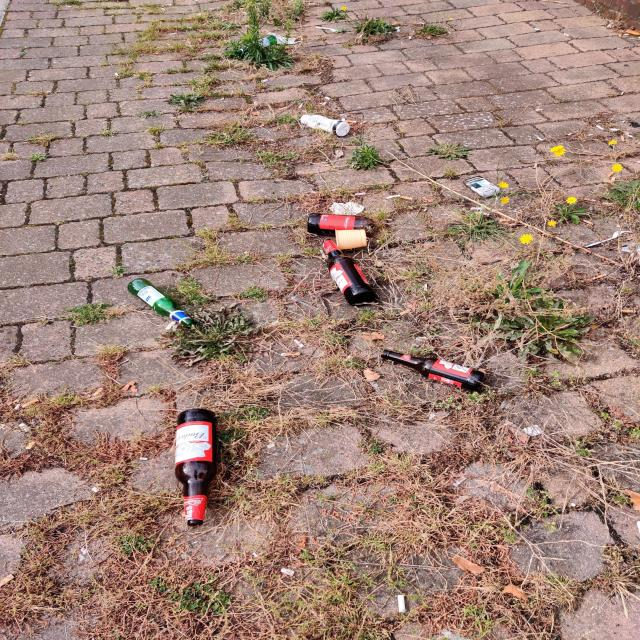litter: (175, 410, 217, 527), (381, 350, 484, 389), (323, 239, 376, 306), (128, 278, 196, 328), (307, 213, 376, 236), (300, 114, 350, 137), (236, 36, 276, 56), (463, 176, 500, 197), (335, 229, 365, 249), (329, 201, 364, 215), (268, 33, 301, 45), (522, 425, 544, 436), (280, 567, 296, 576), (398, 595, 405, 613), (315, 27, 340, 32), (281, 351, 300, 356), (385, 195, 401, 199), (402, 196, 413, 200), (345, 233, 349, 238)
